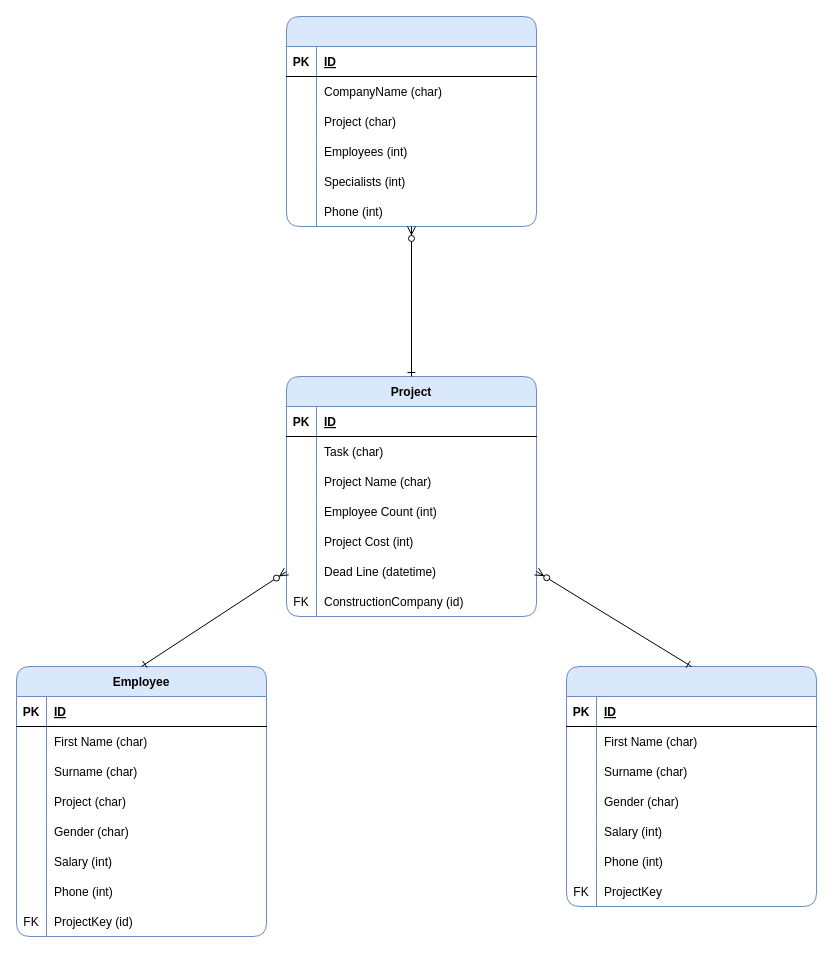
Some shapes in this 833 by 953 pixel diagram are drawn without their labels. The box of each missing label's shape, as (x1, y1, x2, y2) in pixels:
ConstructionCompany: (286, 16, 536, 226)
Specialist: (566, 666, 816, 906)
